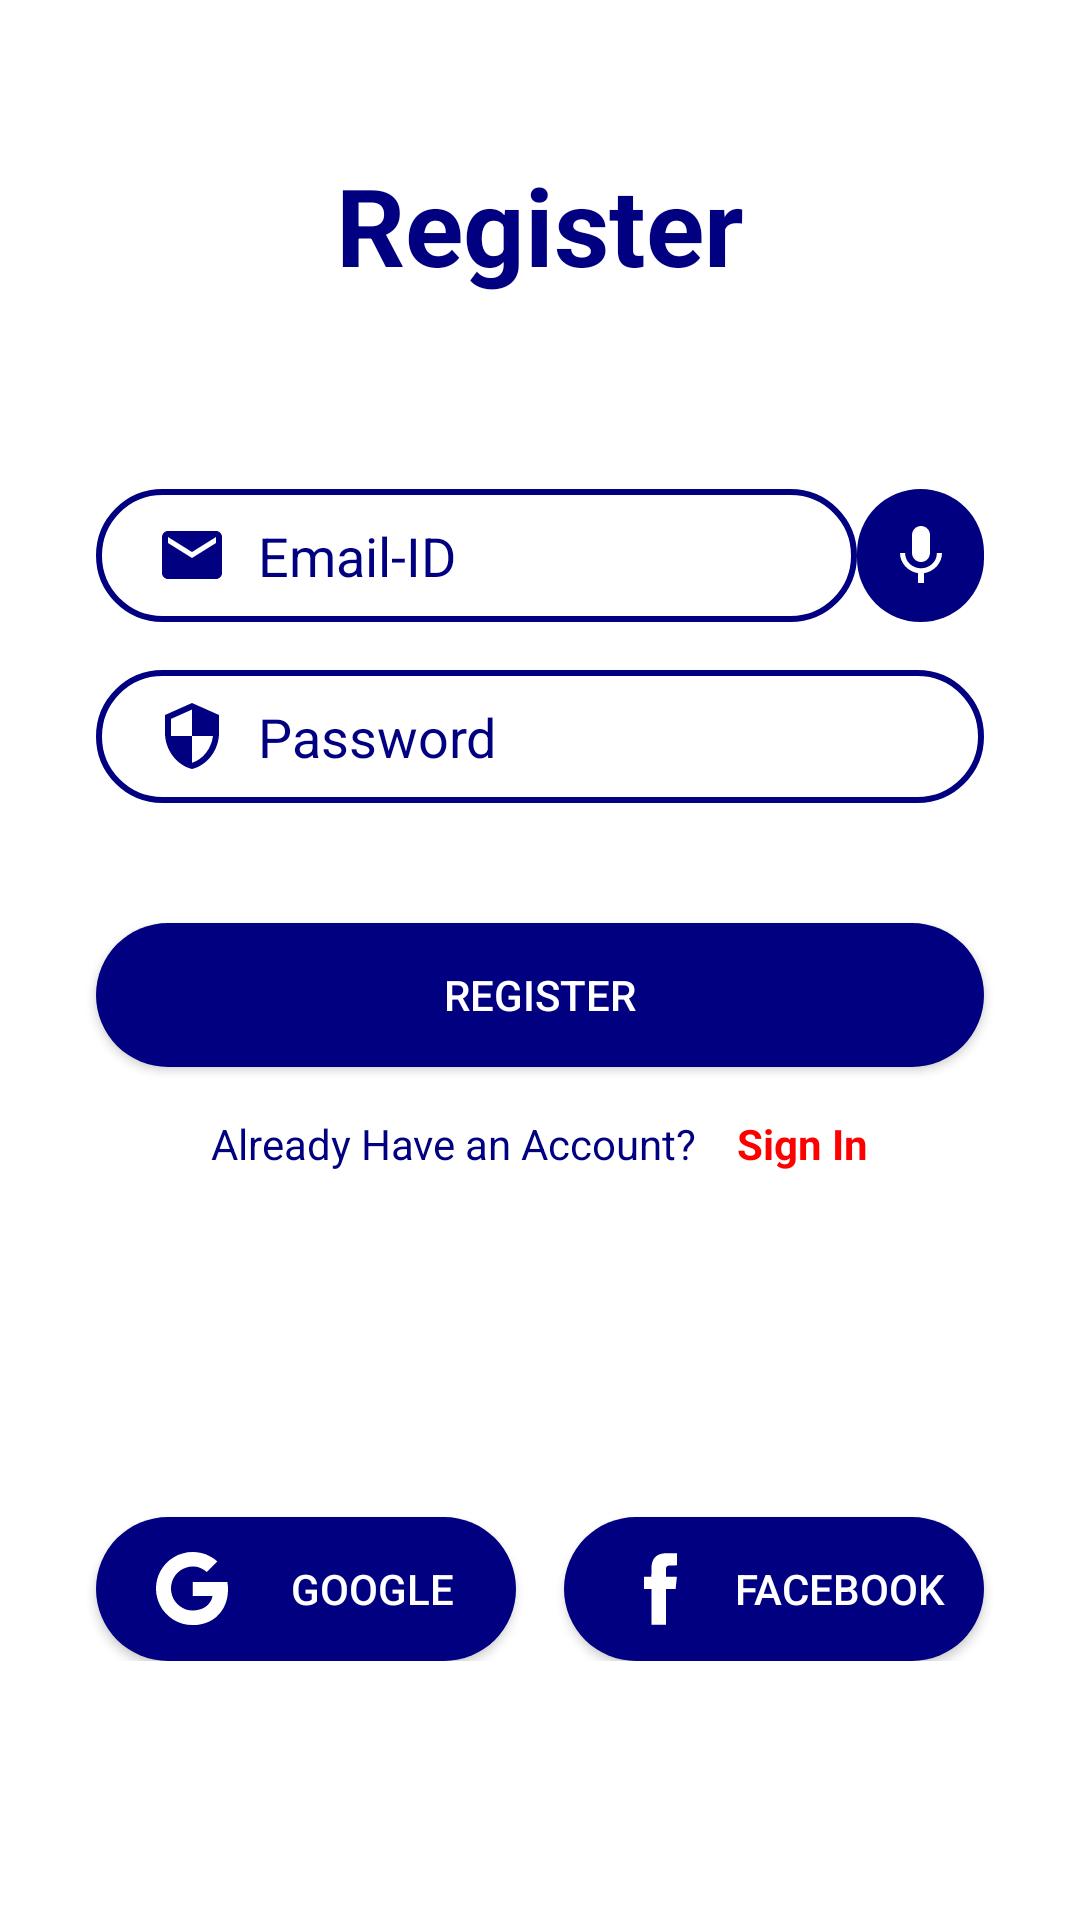

Named icons in this screenshot (1080*1920) and their bounding boxes, (x1, y1, x2, y2):
mic: (857, 489, 984, 622)
